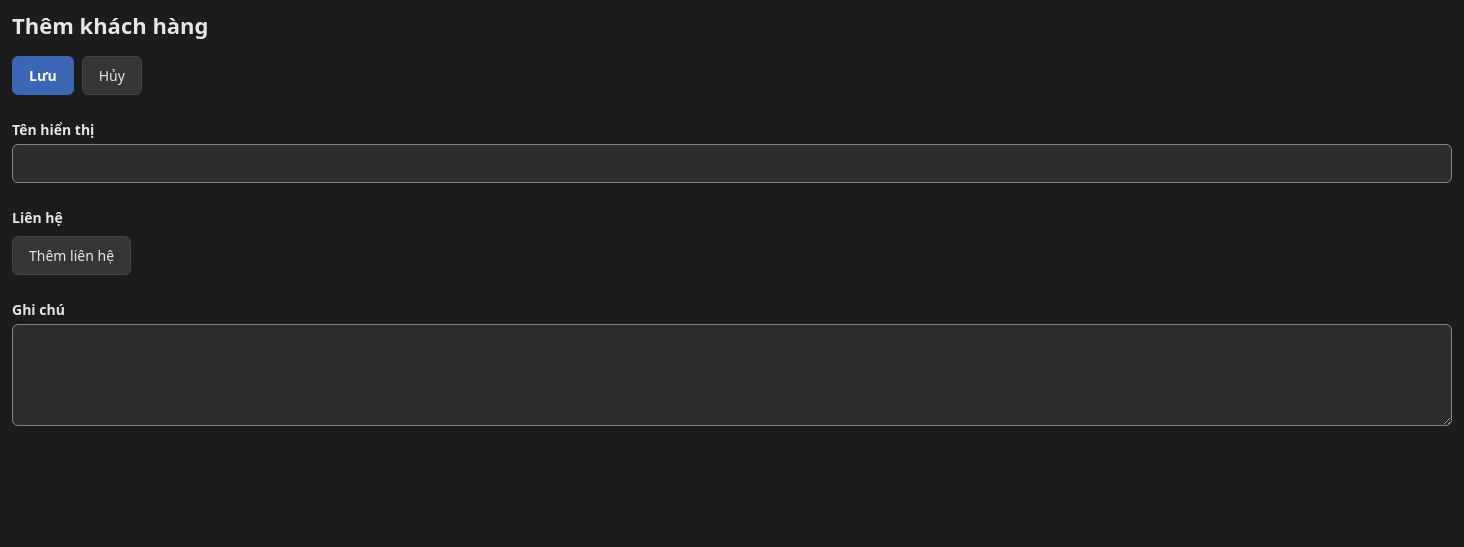
Test: page client_form — saving (saveClient) › contract_violation → the message, never shown as saved, no navigation
The image size is (1464, 547).
Type "An" into the field labelled "Tên hiển thị" at (732, 163), box [12,144,1452,182]
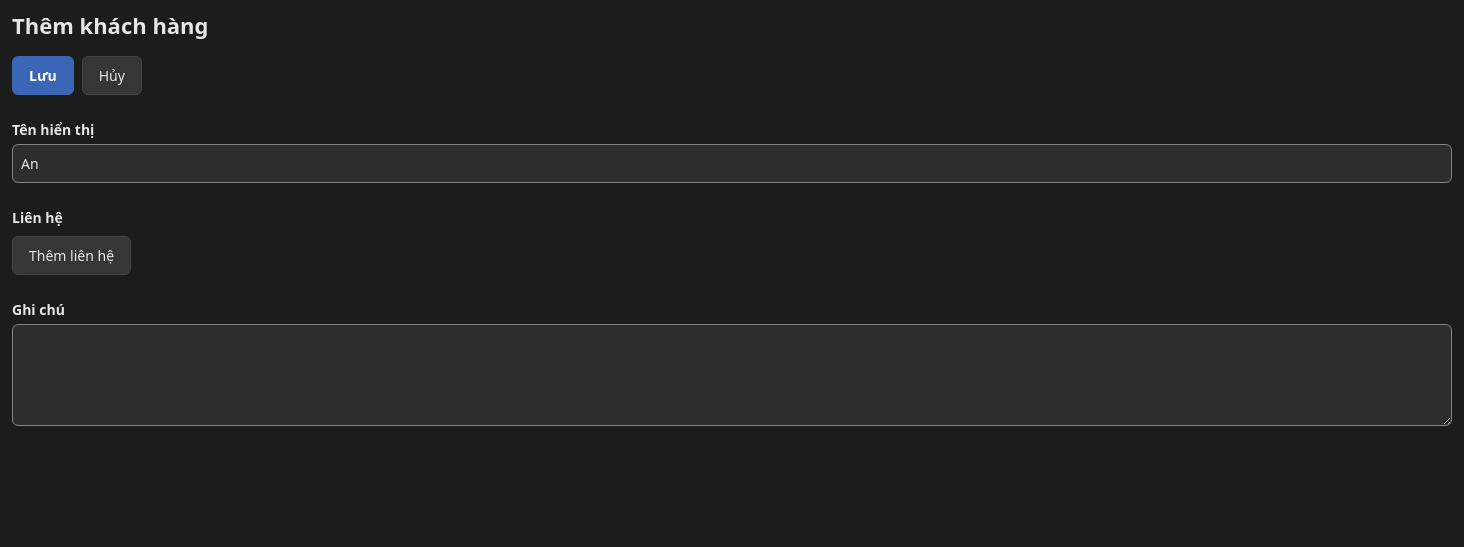
Click the button "Lưu" at (43, 75), box [12,56,74,94]
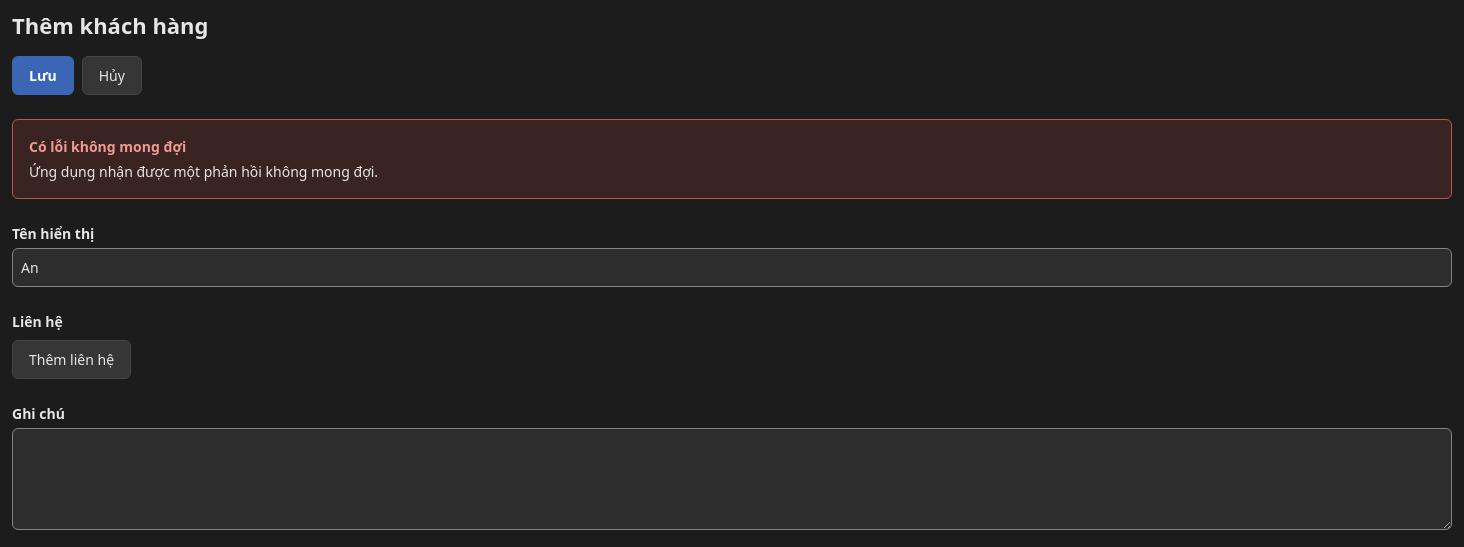
Check: the message shows "Có lỗi không mong đợi", box [29,136,186,156]
